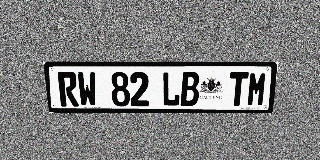2: (130, 72, 149, 106)
8: (110, 72, 130, 106)
B: (180, 72, 200, 106)
L: (162, 72, 181, 106)
M: (246, 72, 268, 106)
R: (57, 72, 79, 106)
T: (228, 72, 249, 106)
W: (77, 72, 98, 106)
